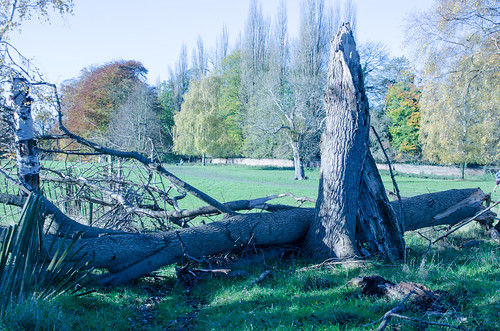tree: (420, 12, 500, 171), (237, 59, 333, 175), (67, 59, 155, 165), (161, 73, 239, 162)
tree trunk: (1, 159, 500, 284), (302, 27, 410, 272)
